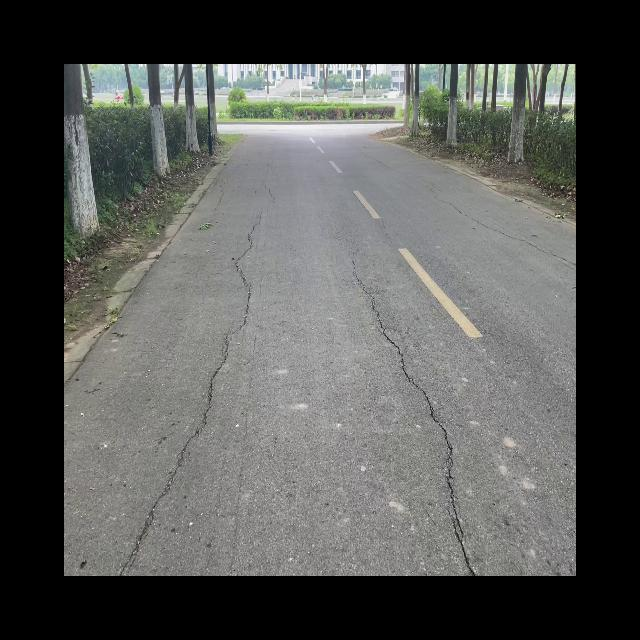retak_memanjang: (335, 249, 488, 576), (450, 204, 576, 269)
